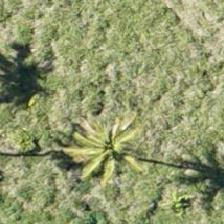coconut_tree: (70, 108, 160, 198)
